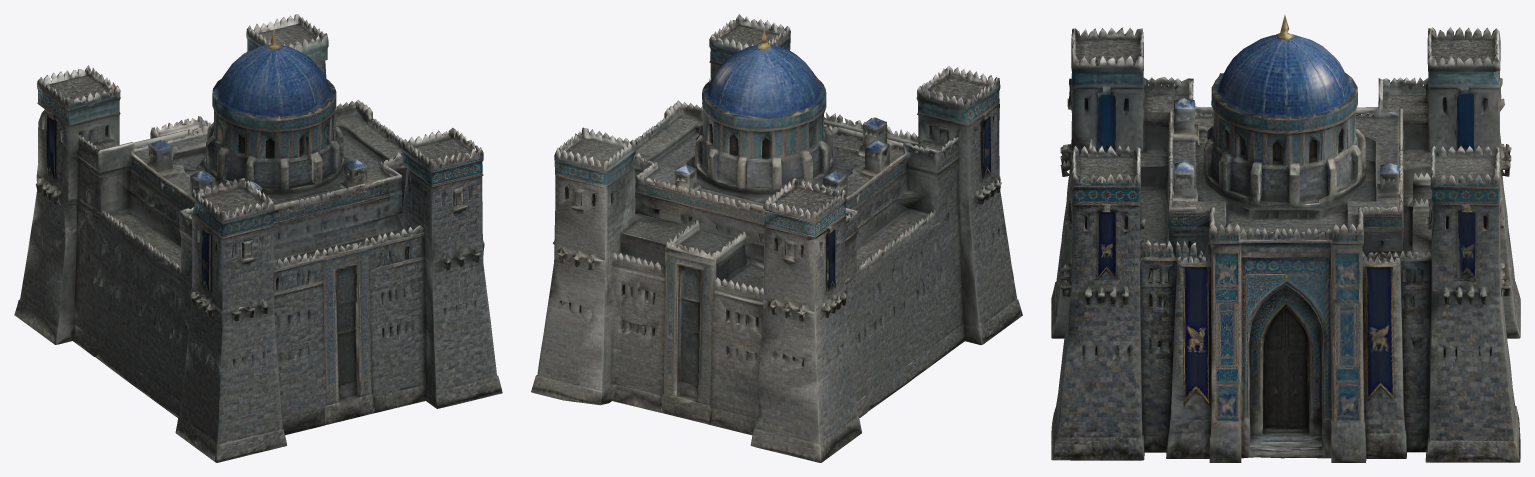
The model's file is castle_keep_stone_2.glb.
3 renders of one model, left to right at view 1: azimuth 30°, elevation 25°; view 2: azimuth 150°, elevation 25°; view 3: azimuth 270°, elevation 25°, orthographic. The views are drawn at different scales.
Parts seen in each view (by area): view 1: tripo_node_6b5b592e-fcbc-40c5-88a7-706b343df75c; view 2: tripo_node_6b5b592e-fcbc-40c5-88a7-706b343df75c; view 3: tripo_node_6b5b592e-fcbc-40c5-88a7-706b343df75c.
Part boxes in pixels (box(x1,y1,x2,y2)): tripo_node_6b5b592e-fcbc-40c5-88a7-706b343df75c: box(14, 14, 502, 462); tripo_node_6b5b592e-fcbc-40c5-88a7-706b343df75c: box(531, 14, 1022, 462); tripo_node_6b5b592e-fcbc-40c5-88a7-706b343df75c: box(1051, 14, 1520, 462).
Size of the model in its own units: 0.8132 by 0.8624 by 0.9807.
1 material, 1 textured.
